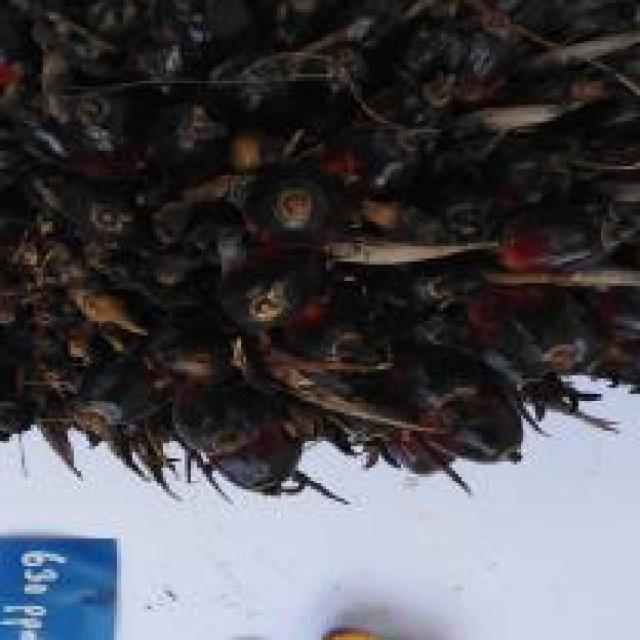unripe: (0, 0, 640, 498)
